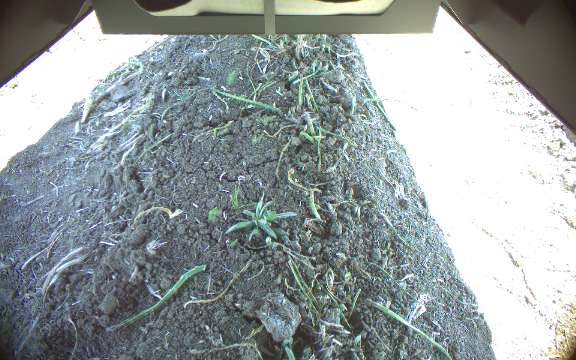aspa: (304, 187, 325, 222), (295, 73, 306, 108)
